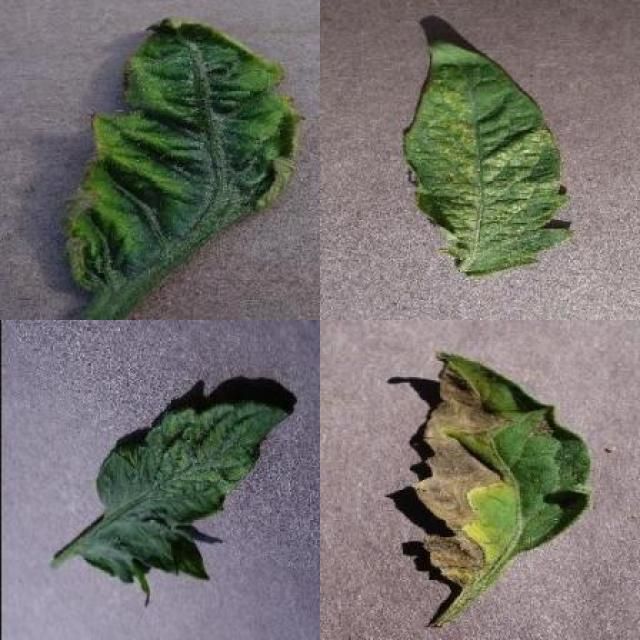Early Blight: (401, 348, 589, 592)
Mosaic Virus: (72, 402, 294, 608)
Spider Mites: (404, 39, 575, 274)
Yellow Leaf Curl Virus: (66, 16, 304, 297)
